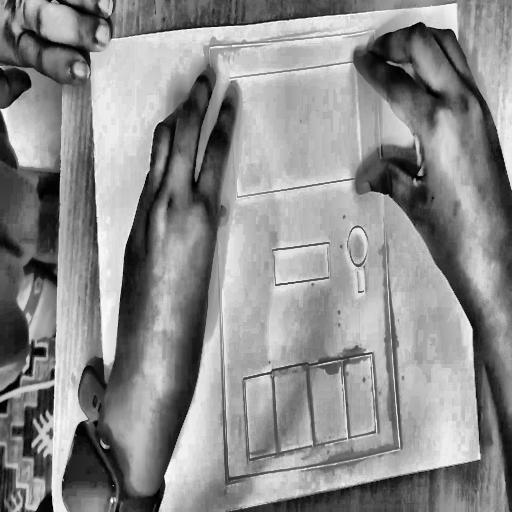bottom_right: (477, 450, 485, 464)
door: (204, 23, 407, 491)
top_left: (86, 36, 94, 52)
top_right: (454, 0, 459, 8)
